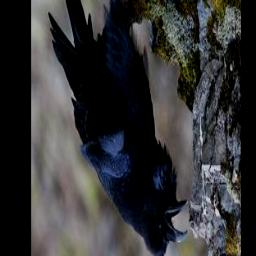Crow: (48, 0, 189, 256)
